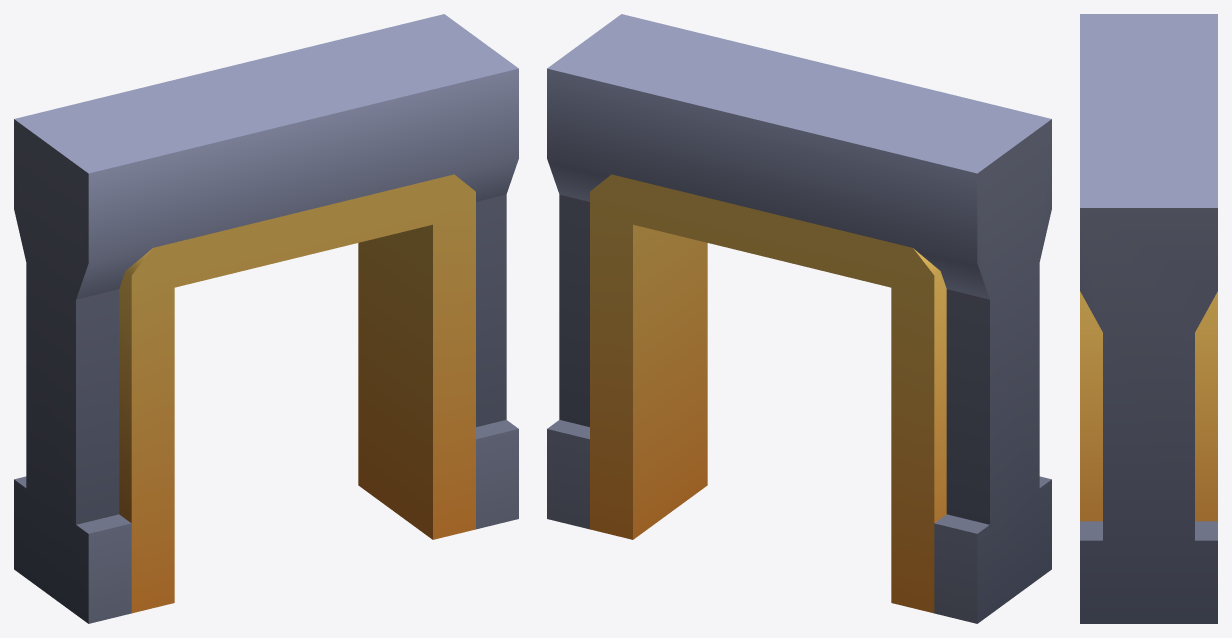
Rendered from wall-door-wide.glb.
The picture shows the model from 3 angles, left to right: view 1: azimuth 30°, elevation 25°; view 2: azimuth 150°, elevation 25°; view 3: azimuth 270°, elevation 25°; orthographic projection. The views are drawn at different scales.
Visible parts, largest first — view 1: wall-door-wide; view 2: wall-door-wide; view 3: wall-door-wide.
Part boxes in pixels (box(x1,y1,x2,y2)): wall-door-wide: box(14, 14, 518, 623); wall-door-wide: box(547, 14, 1051, 623); wall-door-wide: box(1080, 14, 1217, 623).
Size of the model in its own units: 1 by 1 by 0.3.
